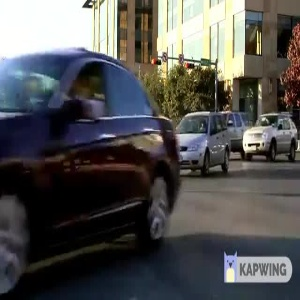car: (1, 46, 177, 251), (170, 110, 235, 174)
suv: (242, 109, 300, 158)
